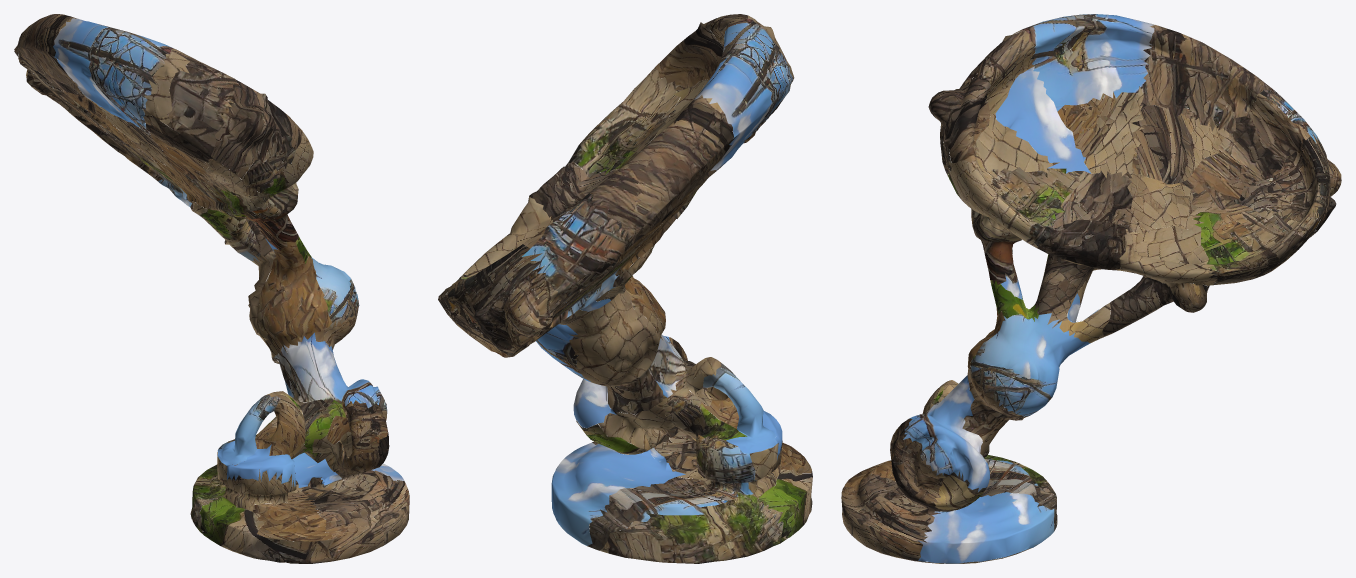
The model's file is satellite_dish_maintenance_wheel_crank_01.glb.
The picture shows the model from 3 angles, left to right: view 1: azimuth 30°, elevation 25°; view 2: azimuth 150°, elevation 25°; view 3: azimuth 270°, elevation 25°; orthographic projection. The views are drawn at different scales.
Parts seen in each view (by area): view 1: tripo_node_ef867ff8-c01b-438c-8820-c0211c33a27d; view 2: tripo_node_ef867ff8-c01b-438c-8820-c0211c33a27d; view 3: tripo_node_ef867ff8-c01b-438c-8820-c0211c33a27d.
Part boxes in pixels (x1,y1,x2,y2): tripo_node_ef867ff8-c01b-438c-8820-c0211c33a27d: (14, 14, 409, 563); tripo_node_ef867ff8-c01b-438c-8820-c0211c33a27d: (438, 14, 812, 563); tripo_node_ef867ff8-c01b-438c-8820-c0211c33a27d: (841, 14, 1341, 563).
Bounding box in the file's own units: 0.5394 × 0.9948 × 0.9993.
Materials: 1 (1 with a texture image).
